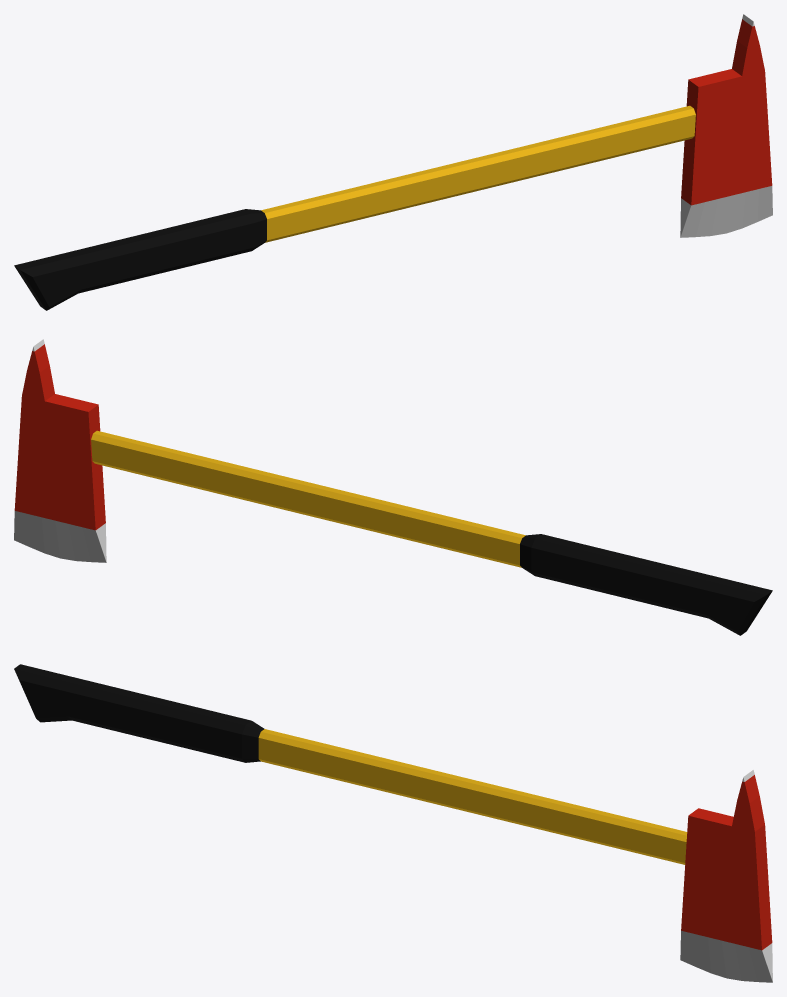
Rendered from fire_axe.glb.
3 renders of one model, top to bottom at view 1: azimuth 30°, elevation 25°; view 2: azimuth 150°, elevation 25°; view 3: azimuth 330°, elevation 25°, orthographic.
Parts seen in each view (by area): view 1: fire_axe; view 2: fire_axe; view 3: fire_axe.
Boxes of the visible parts, box(x1,y1,x2,y2) form: fire_axe: box(14, 14, 772, 310); fire_axe: box(14, 339, 772, 635); fire_axe: box(14, 664, 772, 982).
Bounding box in the file's own units: 0.8439 × 0.2245 × 0.026.
Materials: 1 (1 with a texture image).
